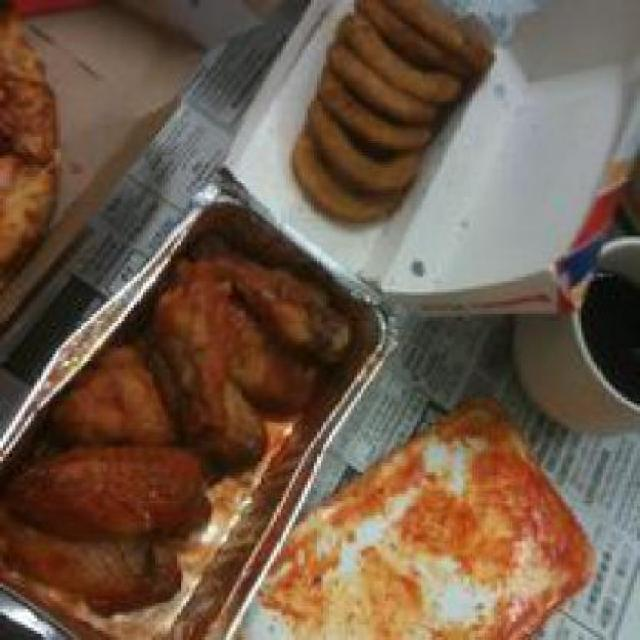chicken wings: (9, 204, 351, 622)
